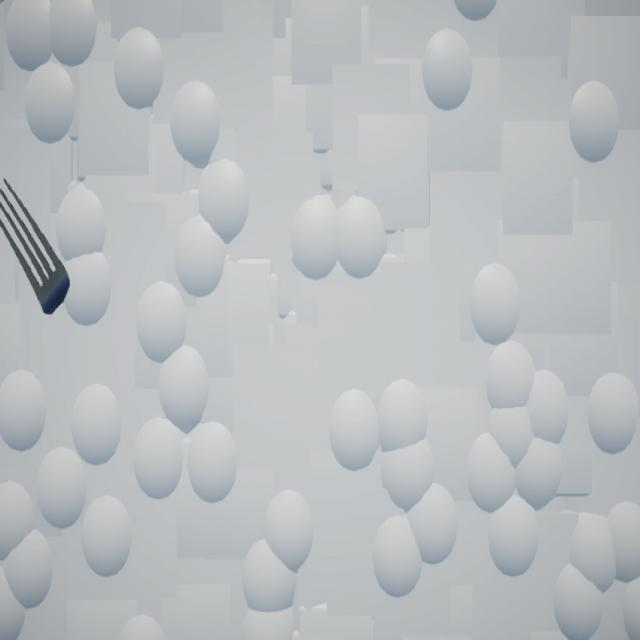top_folk: (1, 179, 72, 316)
